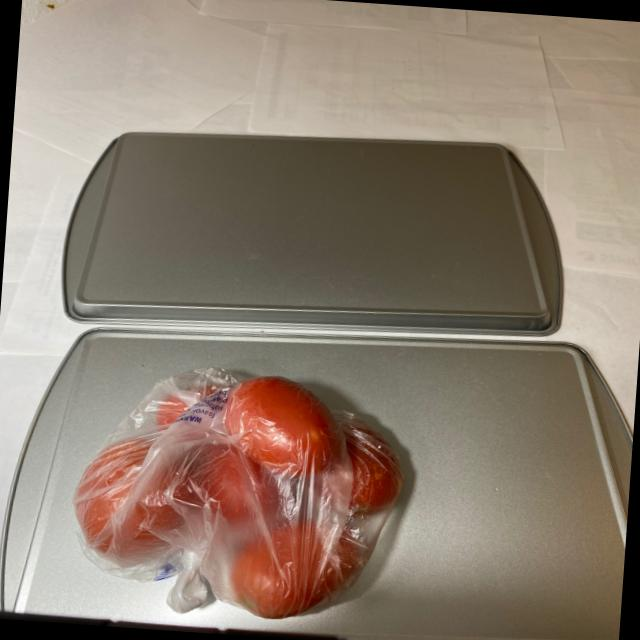tomato: (71, 354, 409, 619)
